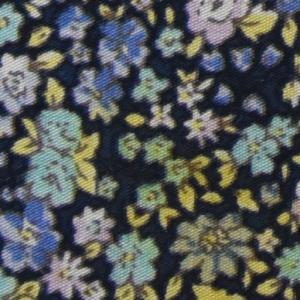Stain: (131, 133, 291, 295)
